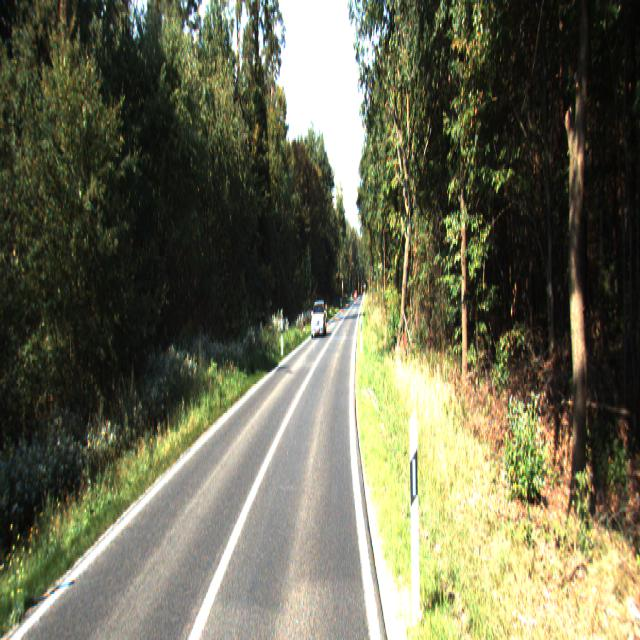Car: (310, 301, 327, 339)
